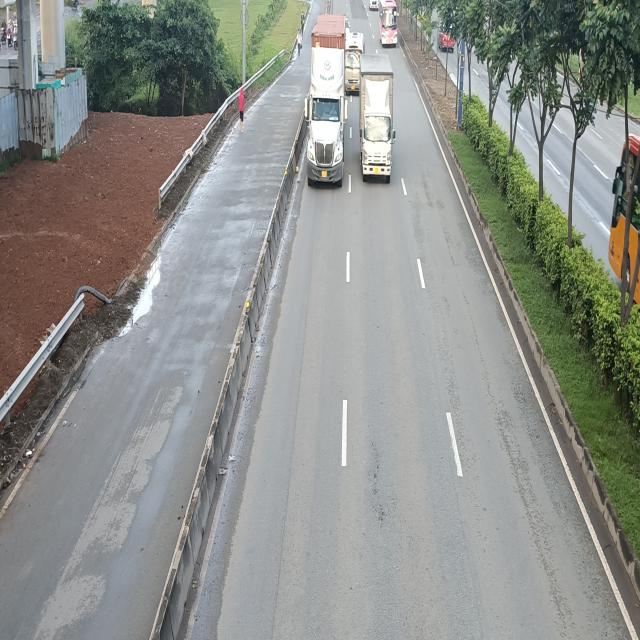coach: (344, 30, 364, 94), (379, 0, 399, 47)
container: (303, 12, 346, 187)
truck: (358, 57, 396, 186)
